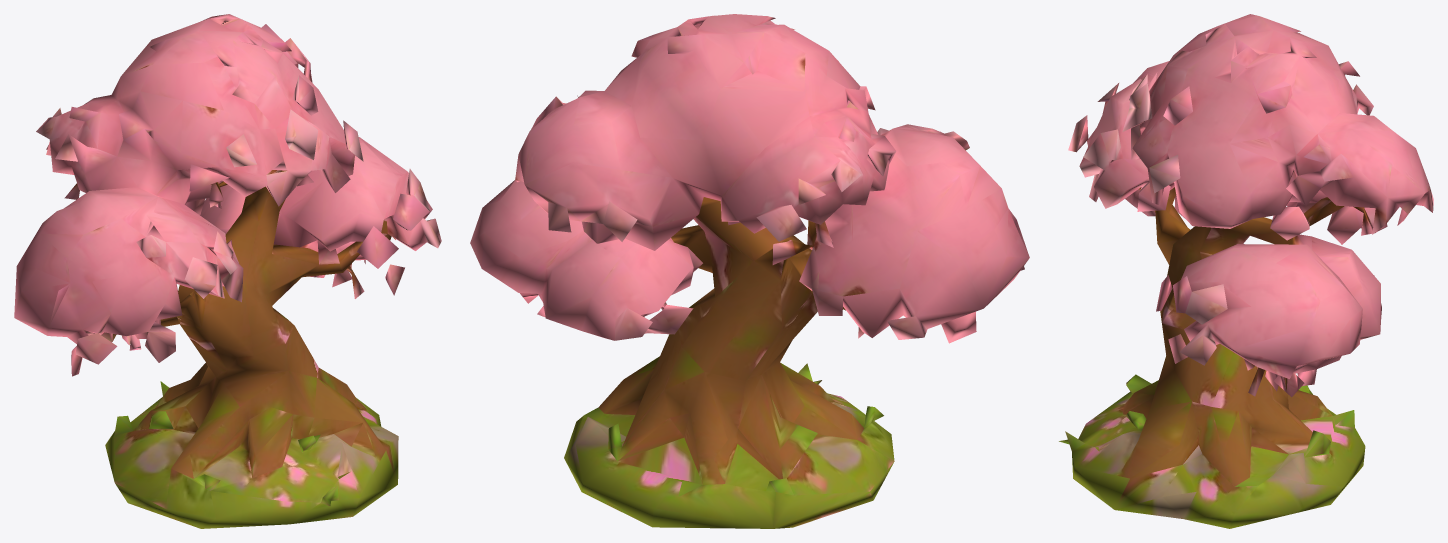
3 views of the same model, side by side, from view 1: azimuth 30°, elevation 25°; view 2: azimuth 150°, elevation 25°; view 3: azimuth 270°, elevation 25° (orthographic). The views are drawn at different scales.
Parts seen in each view (by area): view 1: tree-blossom; view 2: tree-blossom; view 3: tree-blossom.
Part boxes in pixels (x1=…): tree-blossom: x1=14, y1=14, x2=441, y2=528; tree-blossom: x1=470, y1=14, x2=1029, y2=528; tree-blossom: x1=1059, y1=14, x2=1433, y2=528.
Bounding box in the file's own units: 5.22 × 4.97 × 3.98.
1 material, 1 textured.
